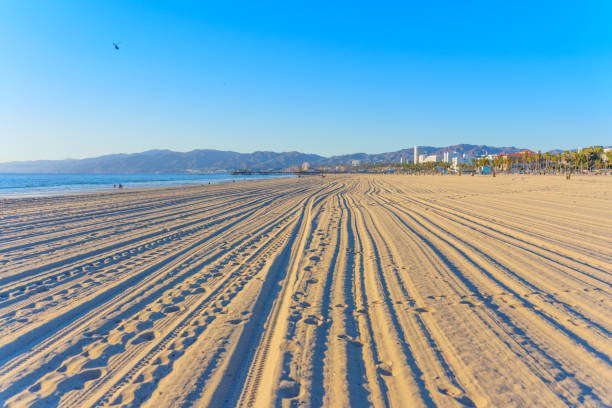vehicle_track: (379, 200, 609, 402), (94, 214, 292, 405), (0, 231, 224, 373), (399, 201, 611, 334), (352, 192, 461, 402), (18, 213, 234, 303), (222, 209, 309, 404), (316, 209, 358, 403)
